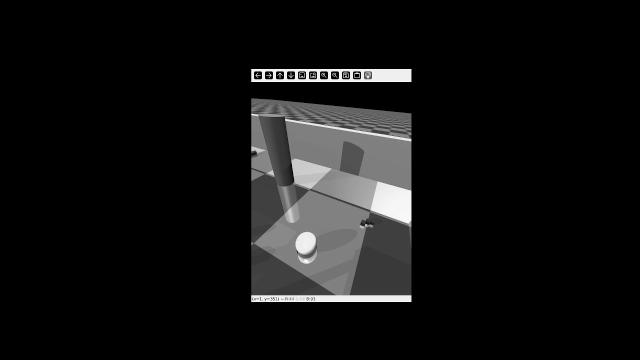cilindro: (256, 112, 304, 187), (251, 146, 258, 161)
cuadrado: (364, 211, 373, 233), (370, 217, 378, 226), (359, 218, 366, 227)
esfera: (290, 227, 323, 262)
